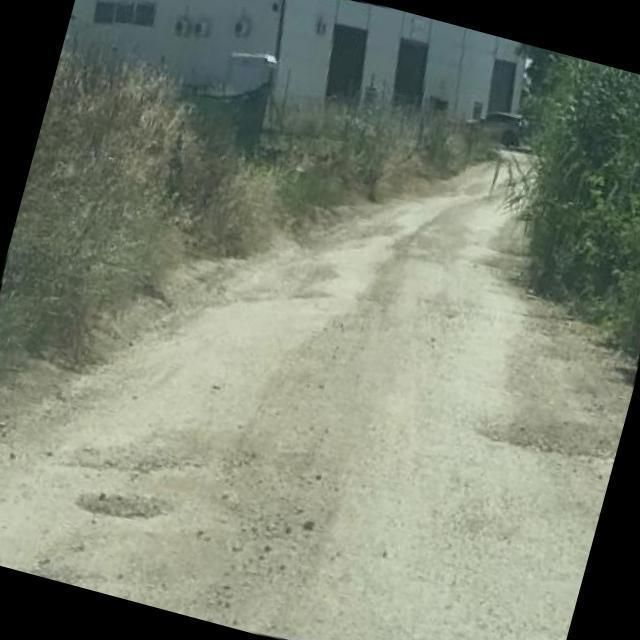Pothole: (75, 487, 173, 517)
